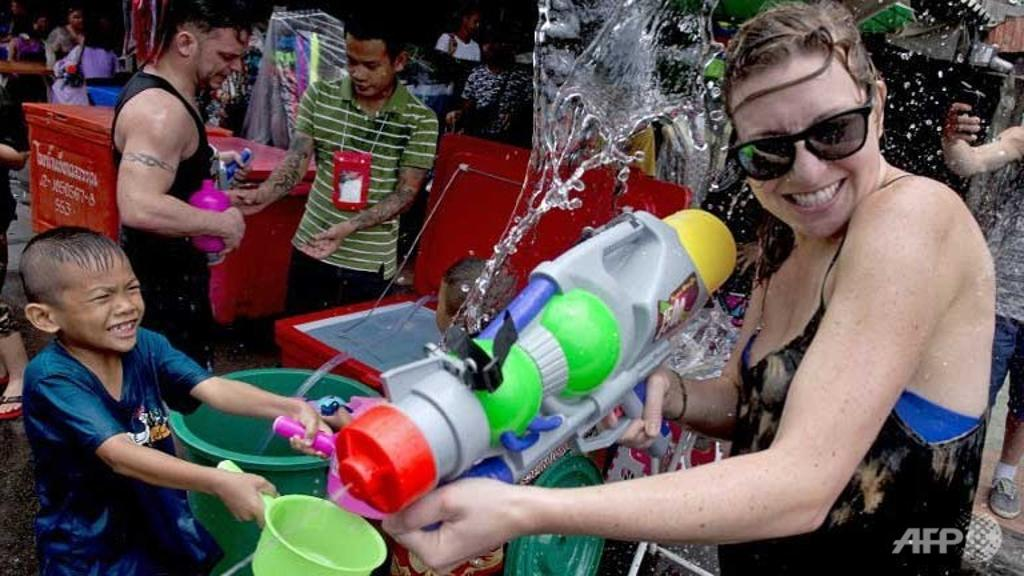face: (731, 62, 876, 238), (57, 254, 145, 348), (189, 25, 248, 92), (344, 37, 392, 95), (480, 41, 500, 64), (465, 13, 479, 32), (67, 11, 81, 27)
